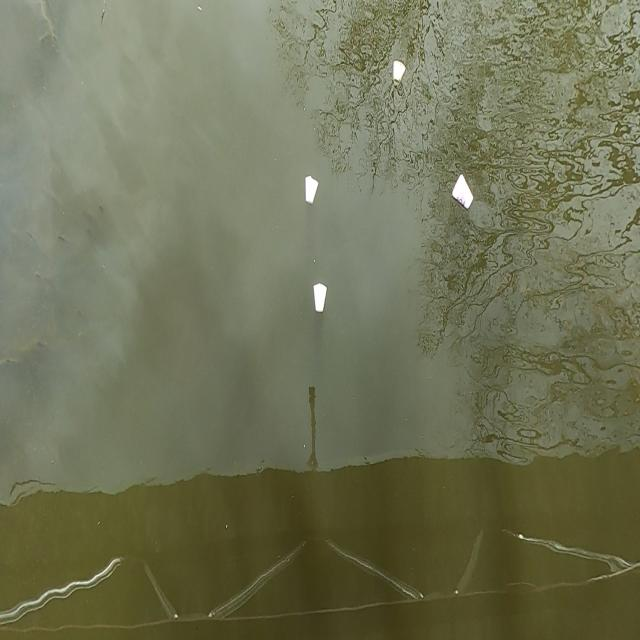Non plastique: (453, 175, 474, 208), (304, 174, 320, 204), (314, 285, 328, 314), (394, 61, 404, 84)
